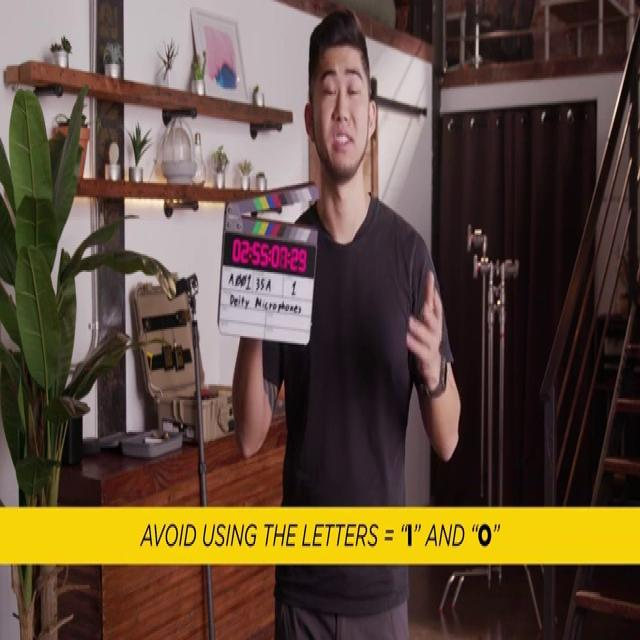Clapperboard: (216, 180, 320, 346)
